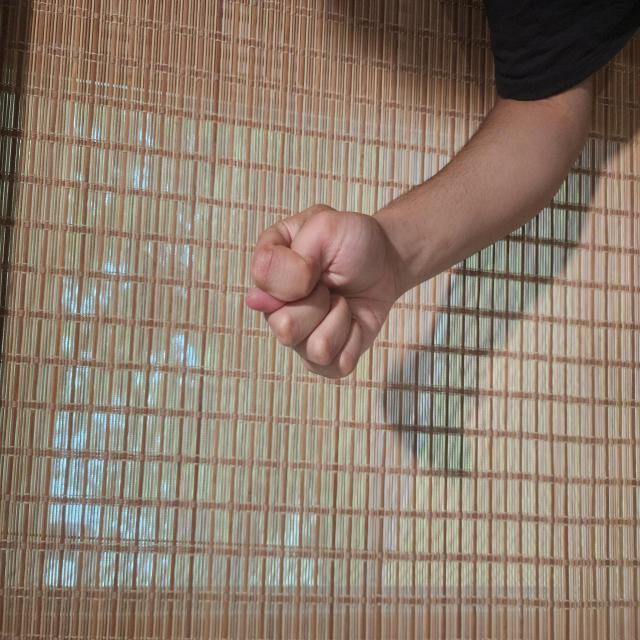T: (188, 318, 334, 532)
